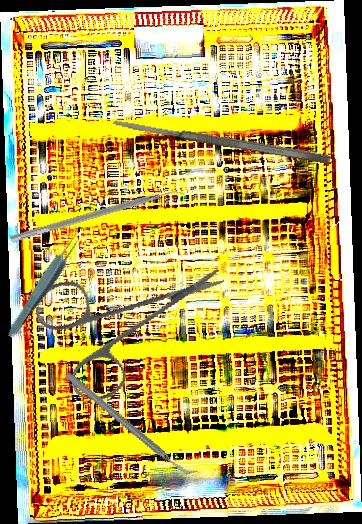Chopper: (63, 340, 200, 508)
Iris Scissors: (14, 216, 227, 428)
Spatula Surgical: (9, 182, 188, 251), (111, 115, 332, 167)
Tissue Forceps: (3, 230, 85, 342)
